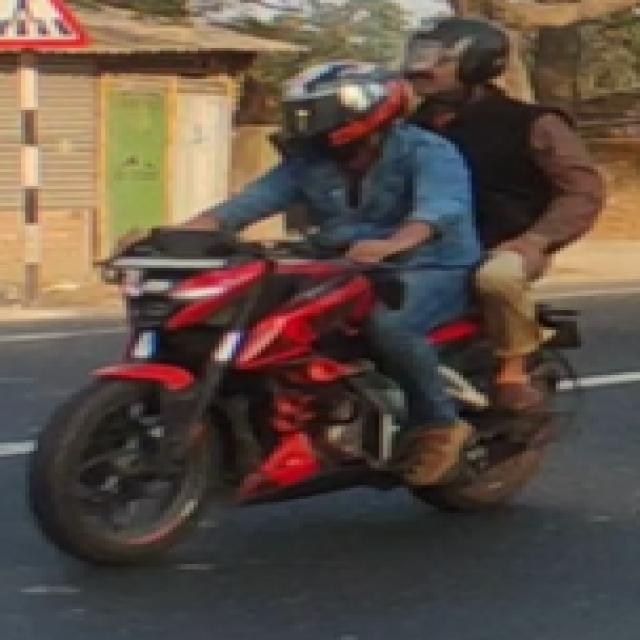Motorized2wheleer: (31, 226, 582, 569)
